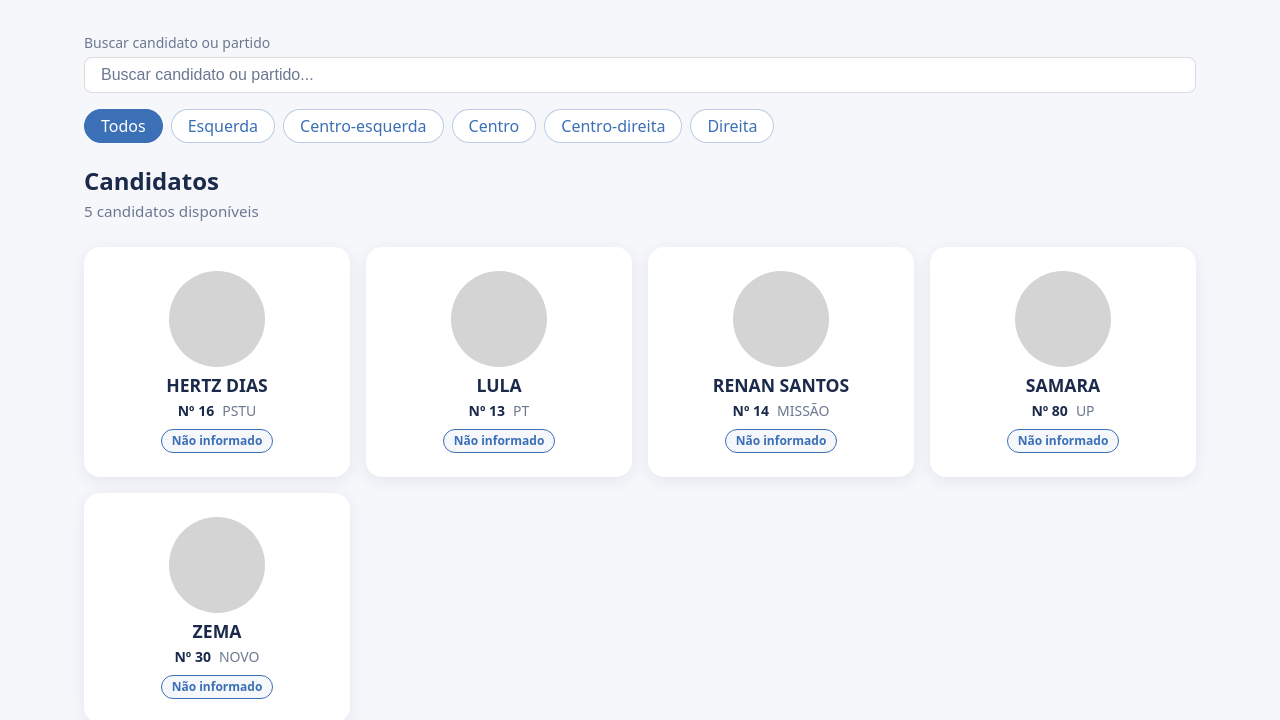
CandidateListPage › filters the displayed candidates as the user types a search query (Req 3.5, 3.3)
Type "HERTZ DIAS" into the field with placeholder "Buscar candidato ou partido..." at (640,75), box 84,57 -> 1196,93
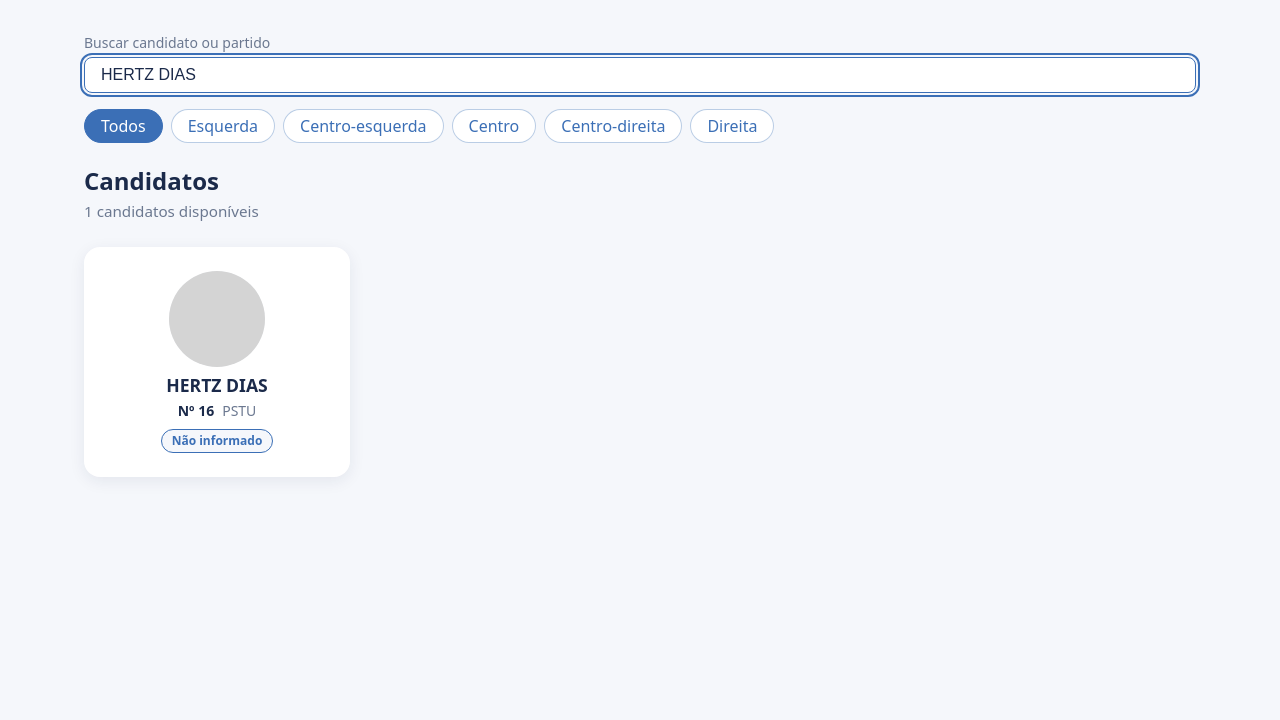
Expected: the heading "HERTZ DIAS" is shown, 166,375 -> 268,396
Expected: the link "LULA" is gone
